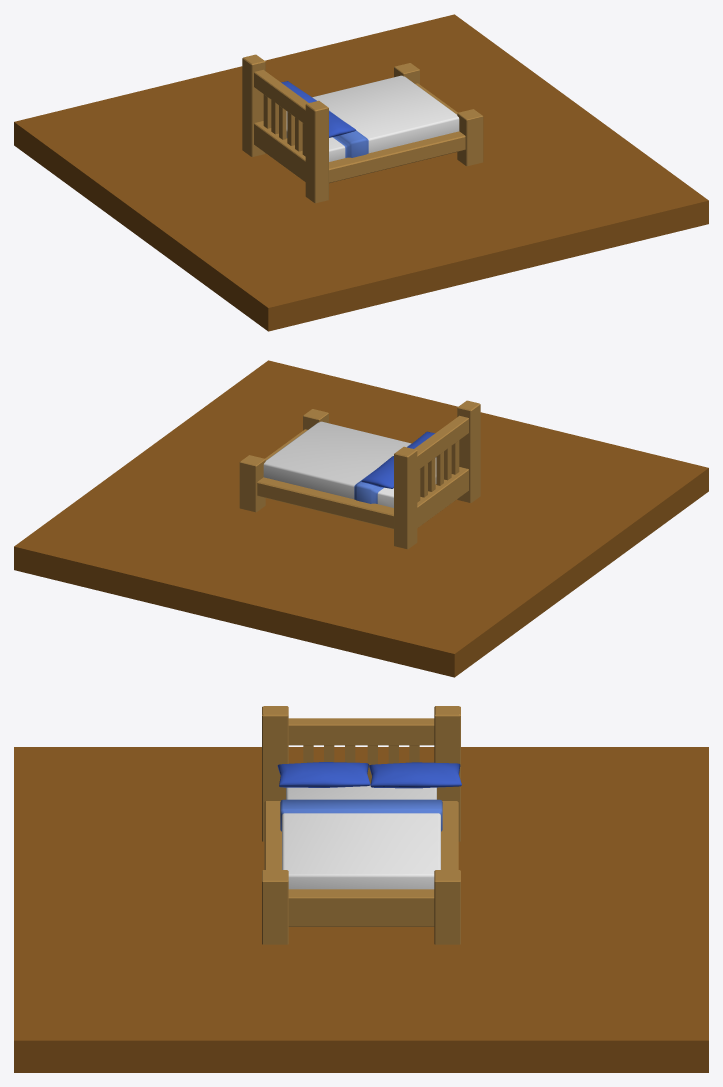
File: BedroomTest.glb
3 renders of one model, top to bottom at view 1: azimuth 30°, elevation 25°; view 2: azimuth 150°, elevation 25°; view 3: azimuth 270°, elevation 25°, orthographic. The views are drawn at different scales.
Parts seen in each view (by area): view 1: Floor, BedFrame, Mattress; view 2: Floor, BedFrame, Mattress, Pillow 2; view 3: Floor, BedFrame, Mattress, Pillow 2, Pillow 1.
Boxes of the visible parts, left/top/right/bottom form: Floor: left=14, top=14, right=708, bottom=331; BedFrame: left=242, top=54, right=483, bottom=203; Mattress: left=286, top=75, right=459, bottom=161; Floor: left=14, top=360, right=708, bottom=677; BedFrame: left=239, top=400, right=480, bottom=549; Mattress: left=263, top=421, right=436, bottom=507; Pillow 2: left=361, top=456, right=393, bottom=488; Floor: left=14, top=747, right=708, bottom=1072; BedFrame: left=262, top=706, right=460, bottom=944; Mattress: left=280, top=785, right=442, bottom=889; Pillow 2: left=369, top=762, right=461, bottom=788; Pillow 1: left=277, top=762, right=370, bottom=787.
Bounding box in the file's own units: 3.97 × 1.04 × 3.97.
